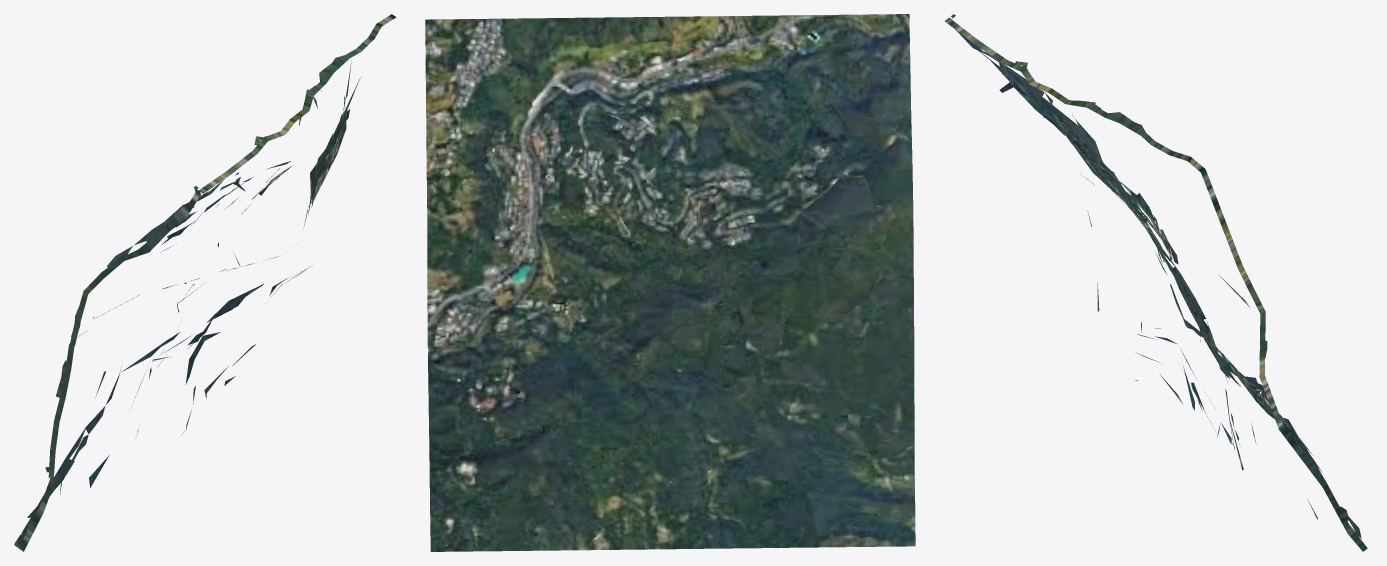
3 views of the same model, side by side, from view 1: azimuth 30°, elevation 25°; view 2: azimuth 150°, elevation 25°; view 3: azimuth 270°, elevation 25° (orthographic). The views are drawn at different scales.
Bounding box in the file's own units: 2403 × 2306 × 2078.
Materials: 1 (1 with a texture image).
